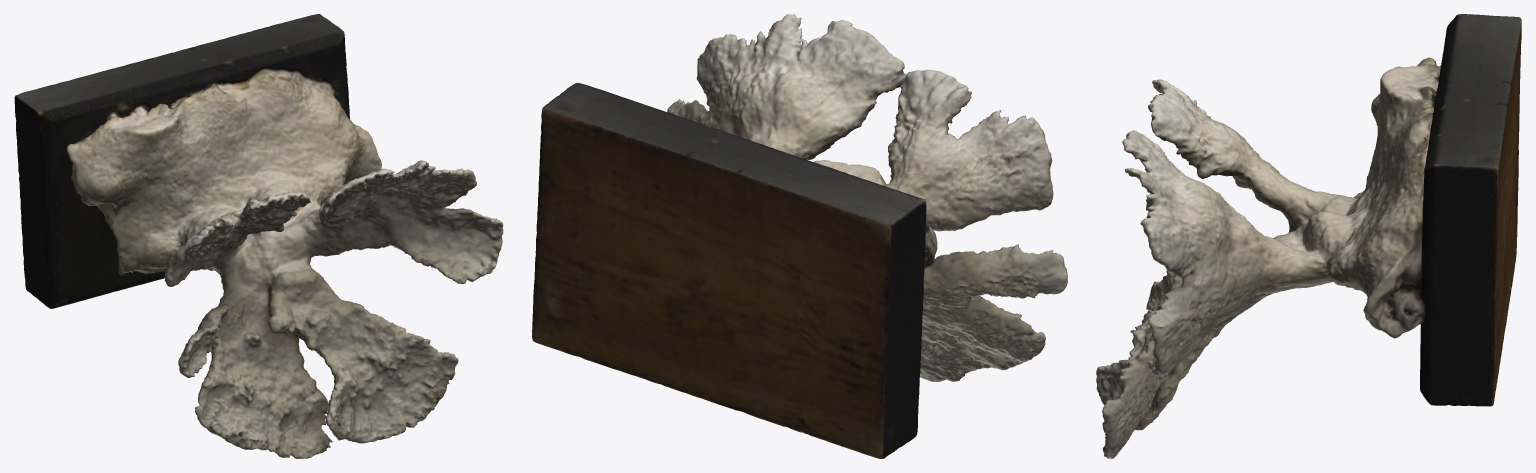
Rendered from smithsonian-acropora-palmata.glb.
The picture shows the model from 3 angles, left to right: view 1: azimuth 30°, elevation 25°; view 2: azimuth 150°, elevation 25°; view 3: azimuth 270°, elevation 25°; orthographic projection. The views are drawn at different scales.
Bounding box in the file's own units: 0.3155 × 0.2633 × 0.289.
1 material, 1 textured.
